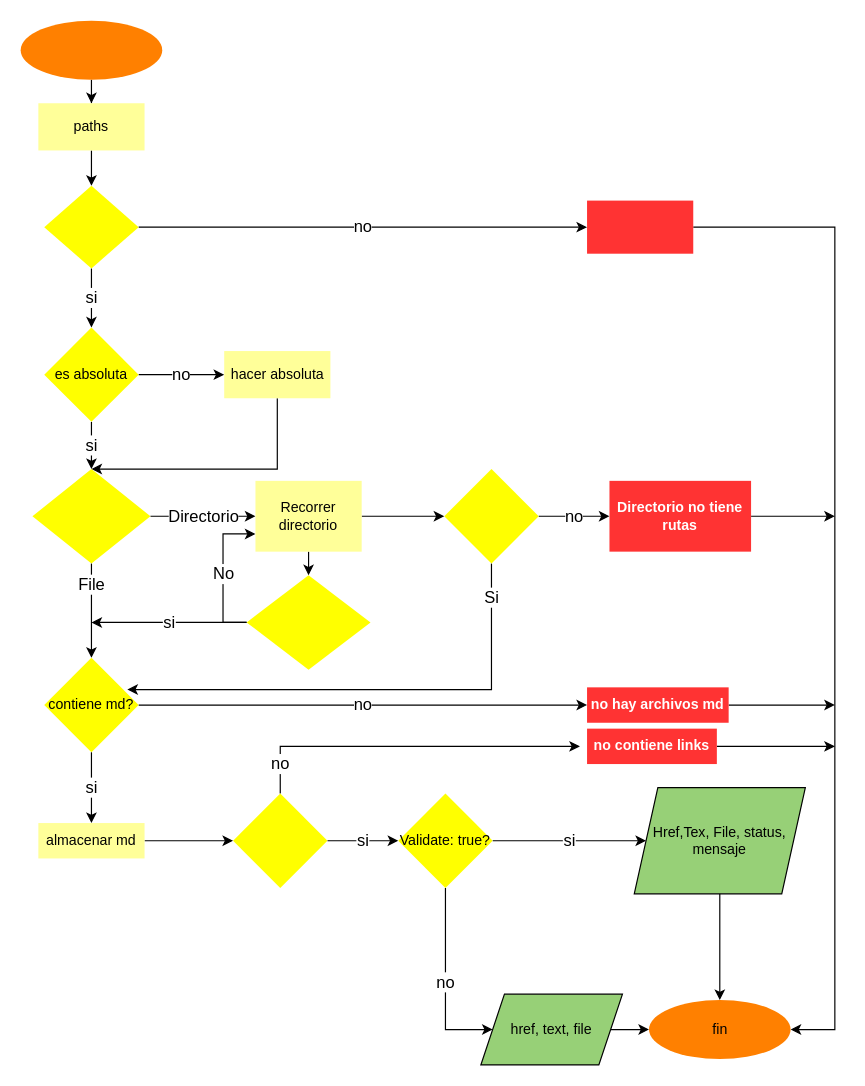
Some shapes in this 865 by 1086 pixel diagram are drawn without their labels. Each missing label, with the centre of its shape:
"archivos" goes at pixel 491 515.
"contiene links?" goes at pixel 279 840.
"es Directorio o File?" goes at pixel 91 515.
"es una ruta válida" goes at pixel 91 226.
"Paths - options" goes at pixel 91 49.
"recorrió todos los directorios?" goes at pixel 308 622.
"ruta no válida" goes at pixel 639 226.
